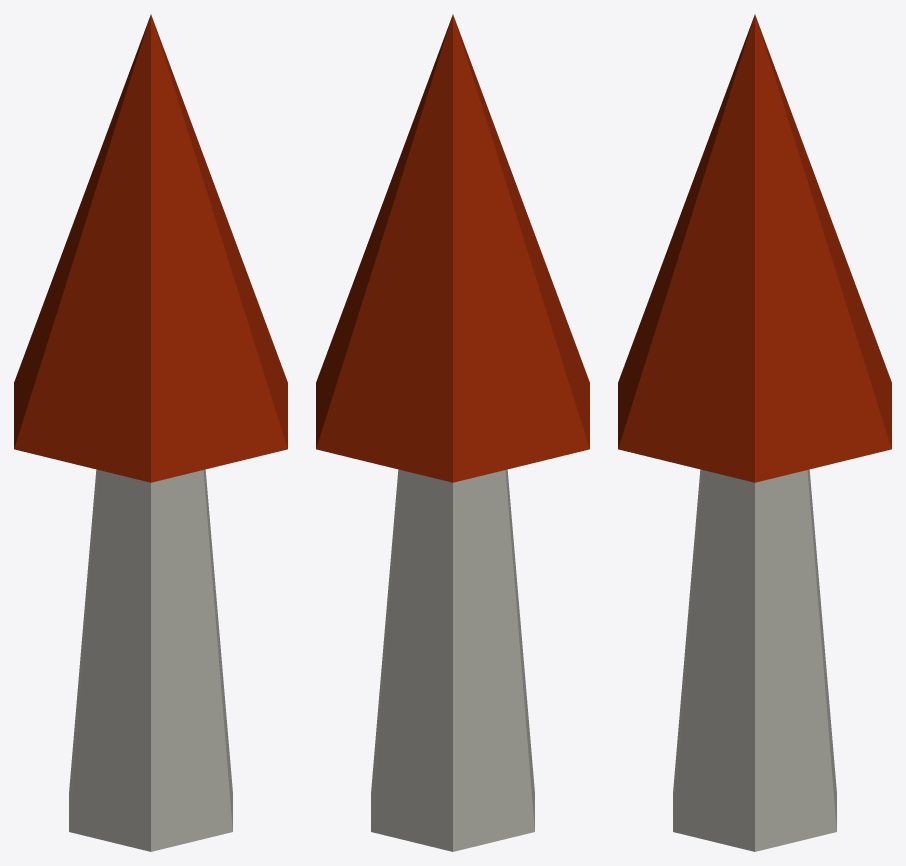
File: Mushroom_Tall_01.fbx
The picture shows the model from 3 angles, left to right: view 1: azimuth 30°, elevation 25°; view 2: azimuth 150°, elevation 25°; view 3: azimuth 270°, elevation 25°; orthographic projection.
Visible parts, largest first — view 1: Model; view 2: Model; view 3: Model.
Boxes of the visible parts, x1=… form: Model: x1=14, y1=14, x2=287, y2=851; Model: x1=316, y1=14, x2=589, y2=851; Model: x1=618, y1=14, x2=891, y2=851.
Bounding box in the file's own units: 96.96 × 270 × 83.97.
